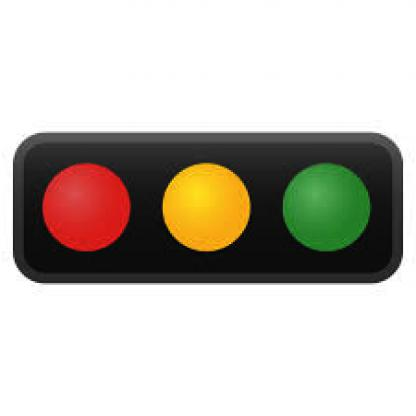traffic-light: (24, 135, 396, 275)
